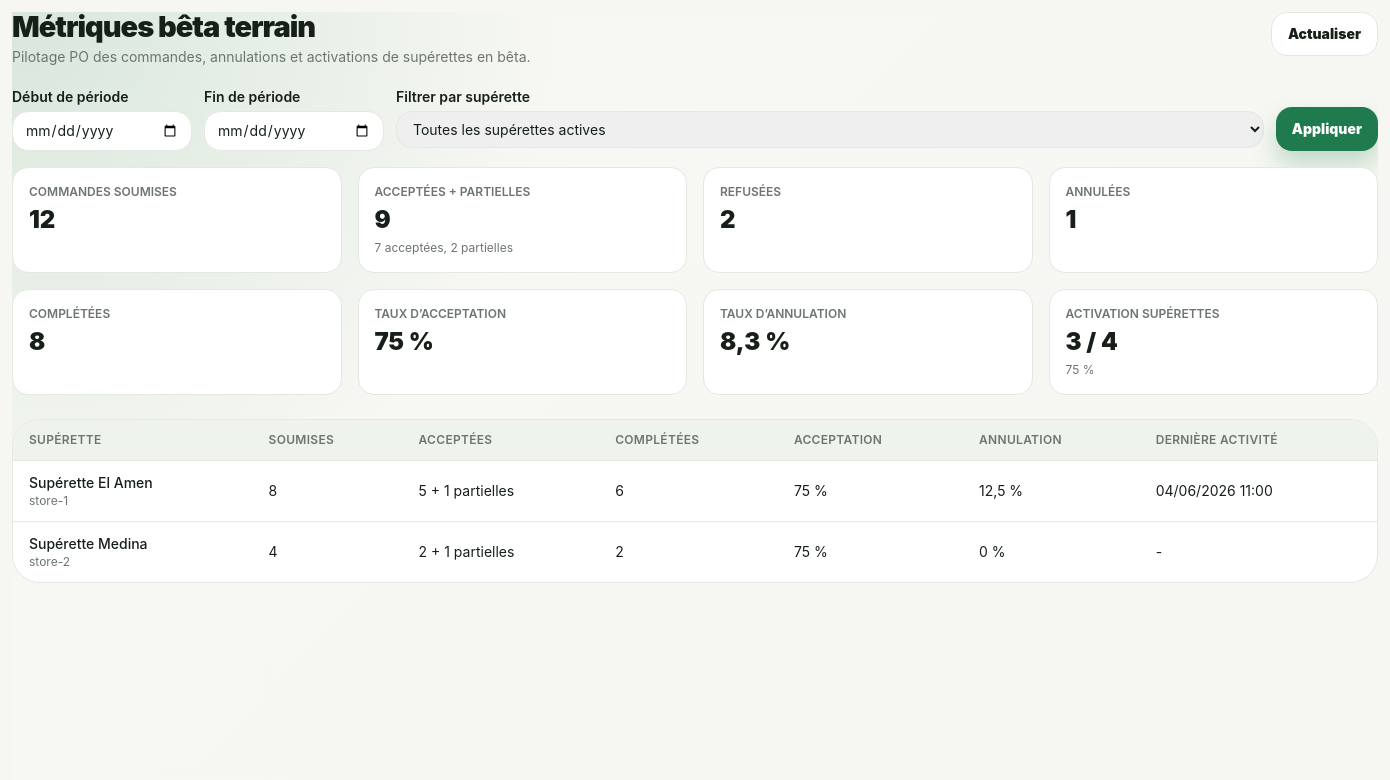
AdminBetaMetricsPage › efface les anciennes métriques quand un reload filtré échoue
Expected: the text "12" is shown, [29,205,55,234]
Type "2026-06-01" into the date field labelled "Début de période" at (102, 131), box [12,111,192,151]
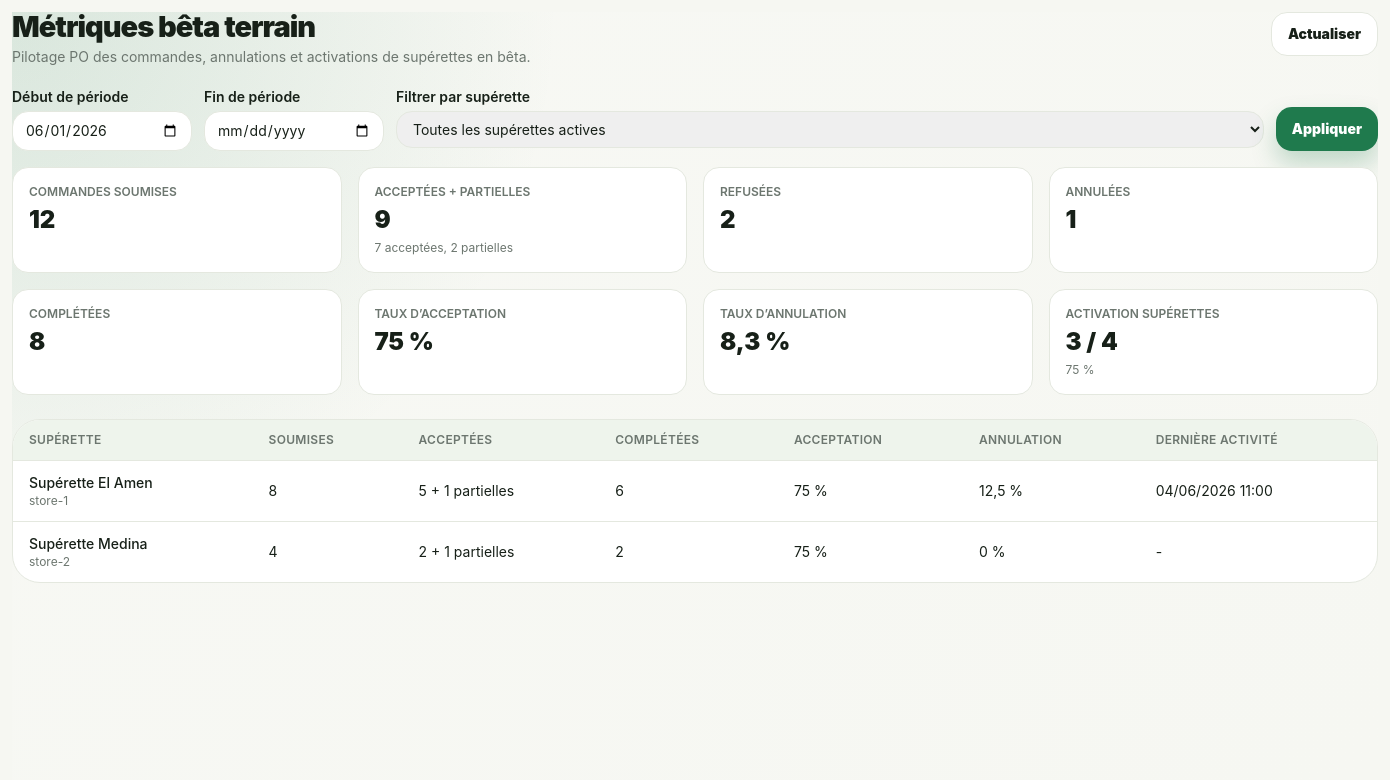
Type "2026-06-30" into the date field labelled "Fin de période" at (294, 131), box [204,111,384,151]
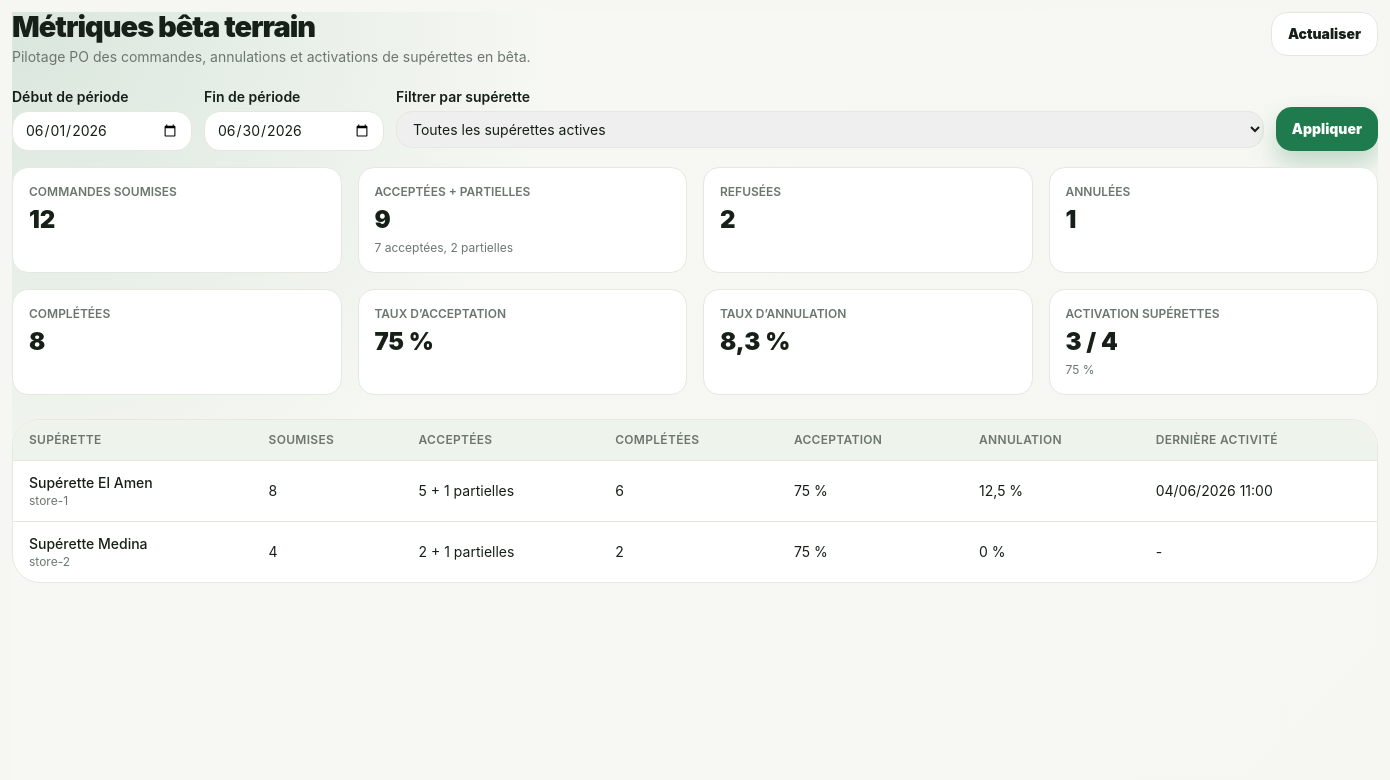
Select "Supérette Medina" in the dropdown labelled "Filtrer par supérette" at (830, 129), box [396,111,1264,148]
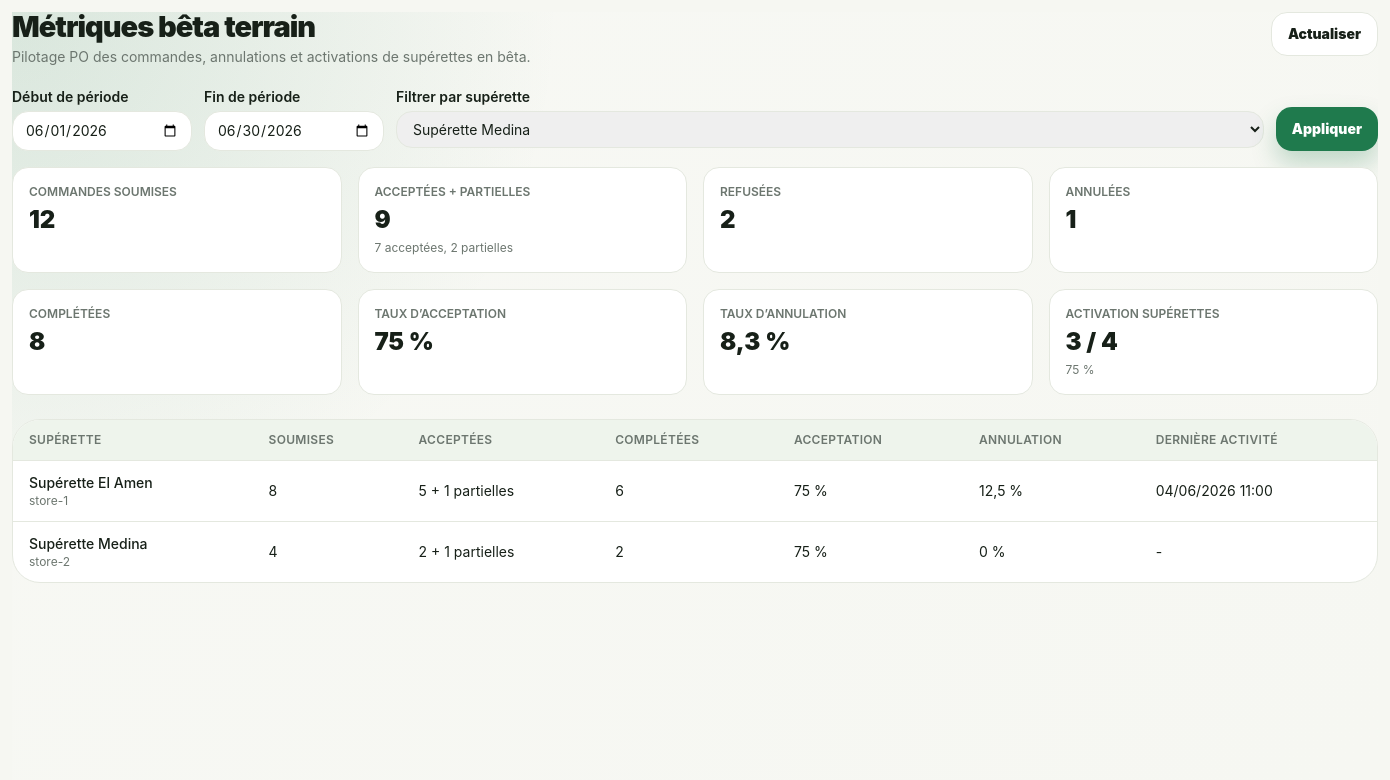
Click the button "Appliquer" at (1327, 129), box [1276,107,1378,151]
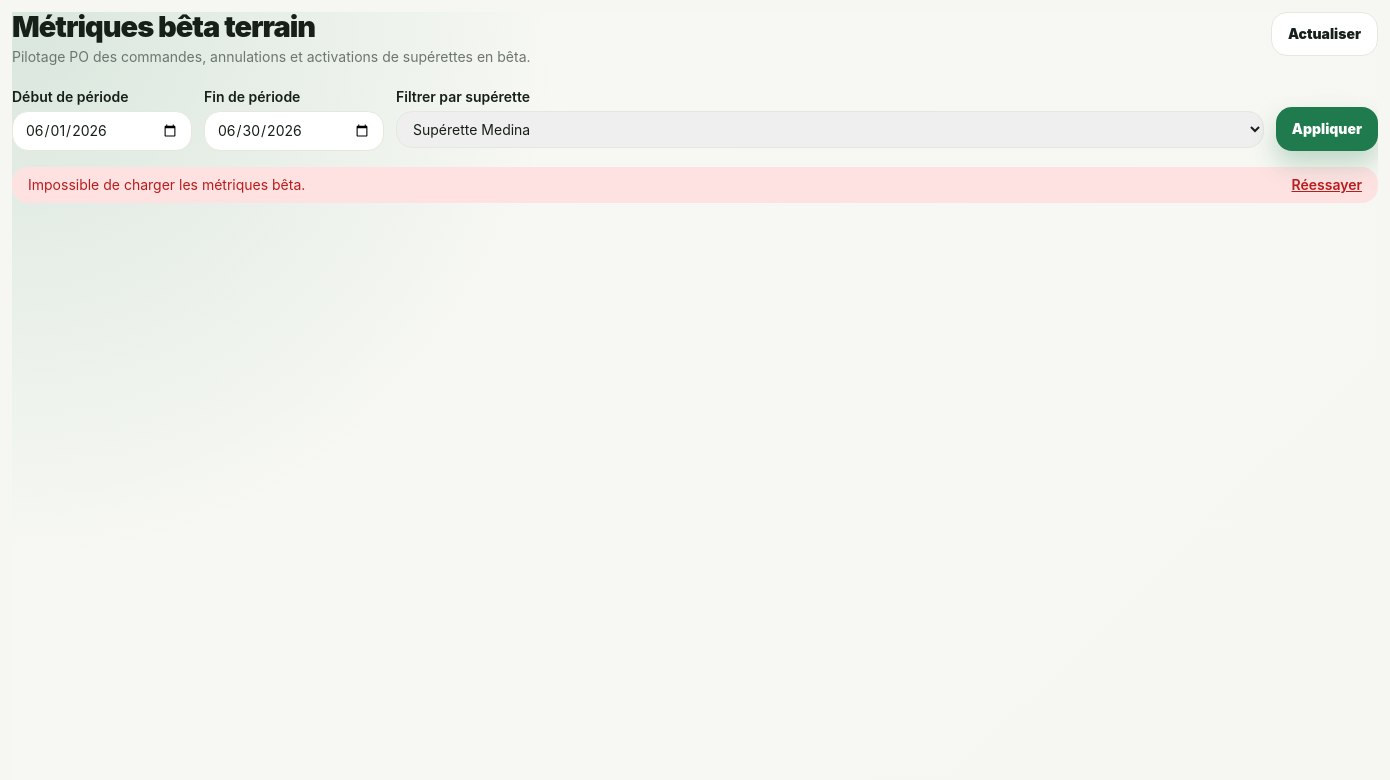
Now the text "Impossible de charger les métriques bêta." is shown, box [28,176,305,193]
Now the text "12" is gone
Now the text "store-1" is gone
